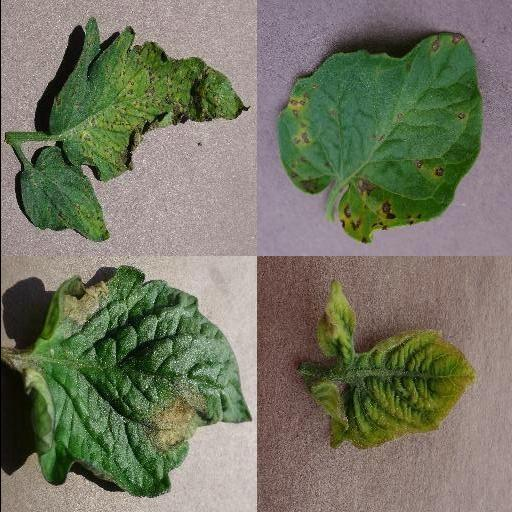Late Blight: (21, 265, 253, 499)
Septoria: (270, 34, 482, 244), (48, 15, 250, 181)
Yellow Leaf Curl Virus: (307, 282, 475, 452)
